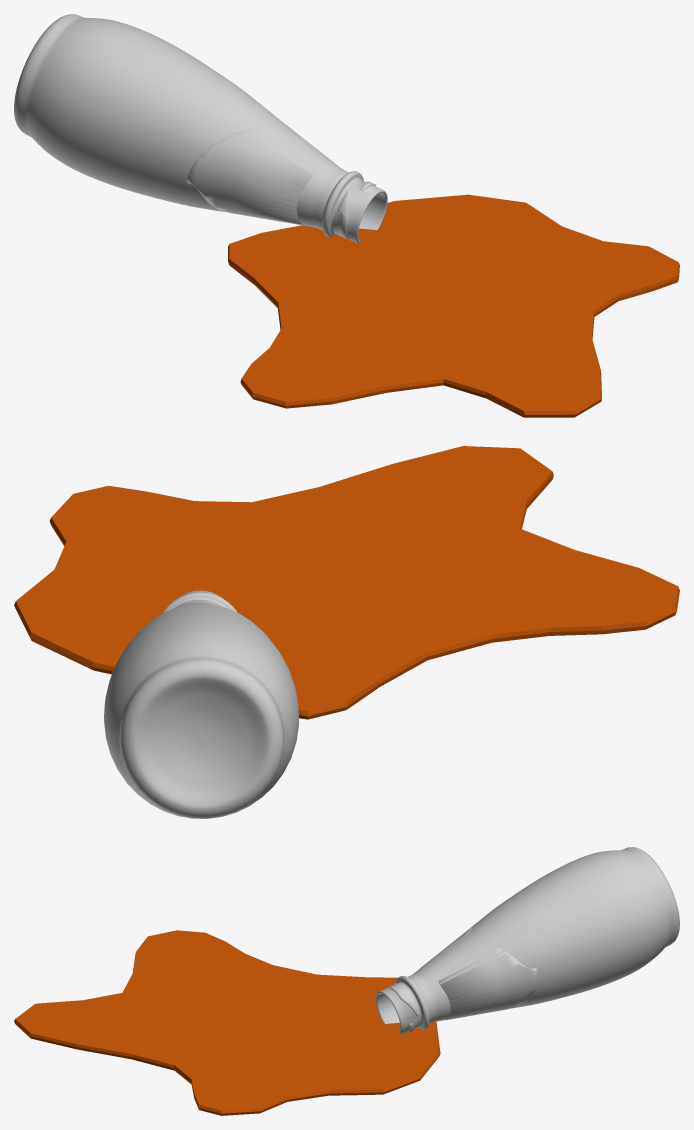
File: SpilledBottle.obj
The picture shows the model from 3 angles, top to bottom: view 1: azimuth 30°, elevation 25°; view 2: azimuth 150°, elevation 25°; view 3: azimuth 270°, elevation 25°; orthographic projection. The views are drawn at different scales.
Visible parts, largest first — view 1: SpilledBottle; view 2: SpilledBottle; view 3: SpilledBottle.
Part boxes in pixels (bbox=[...]): SpilledBottle: bbox=[14, 14, 679, 417]; SpilledBottle: bbox=[14, 446, 679, 818]; SpilledBottle: bbox=[14, 847, 679, 1115].
Bounding box in the file's own units: 1.99 × 0.6336 × 3.09.
